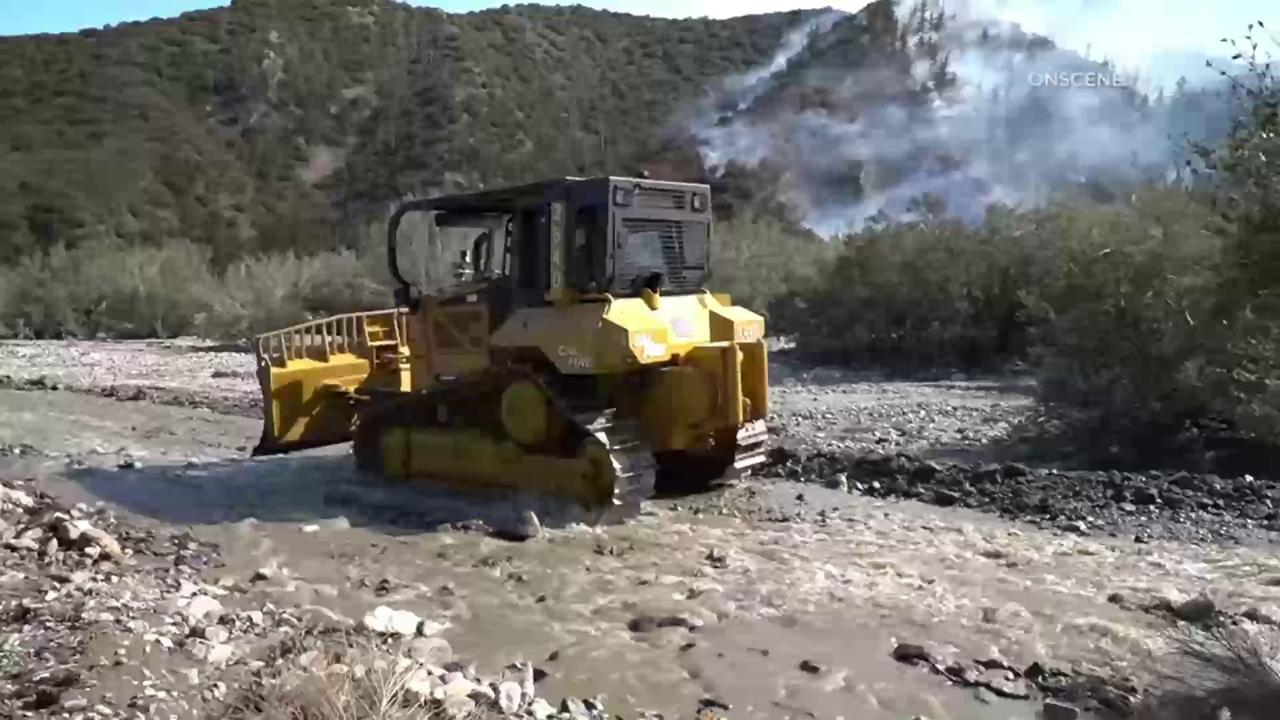smoke: (686, 1, 1280, 244)
